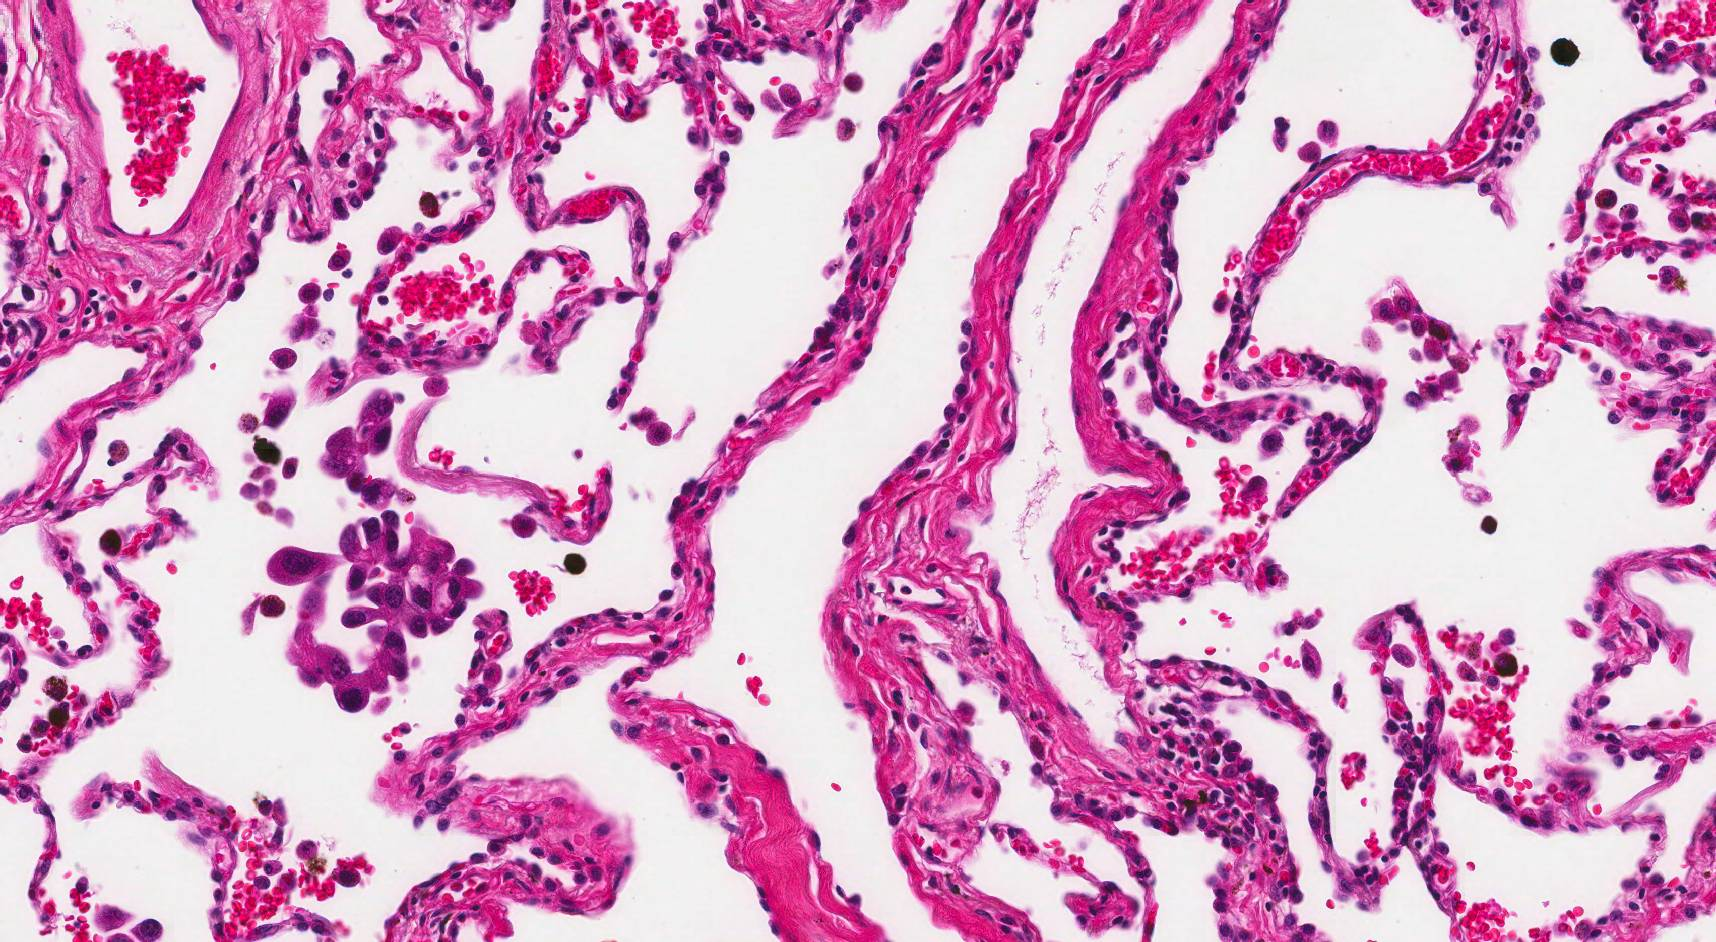stas: (265, 507, 487, 714), (320, 390, 399, 510)
